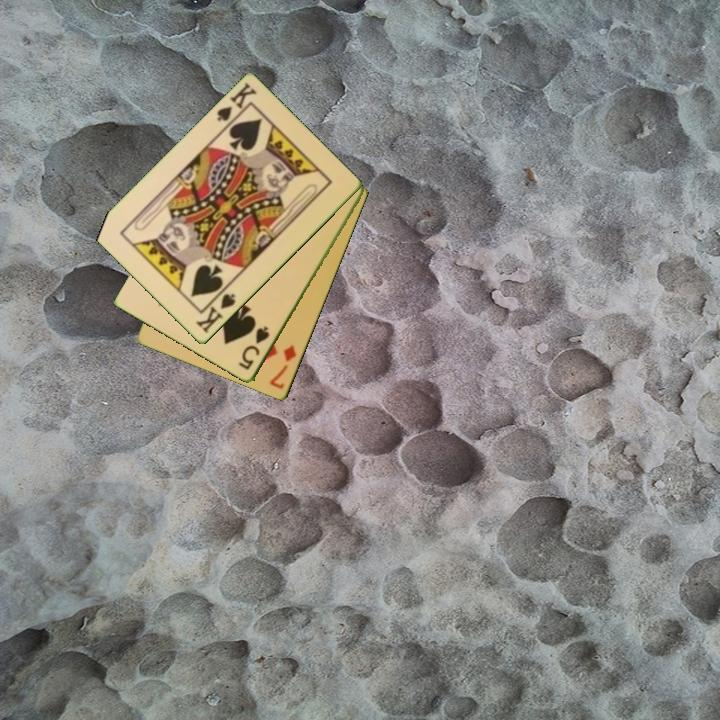5s: (235, 323, 273, 373)
7d: (266, 342, 300, 392)
Ks: (213, 79, 260, 132), (192, 285, 238, 337)
